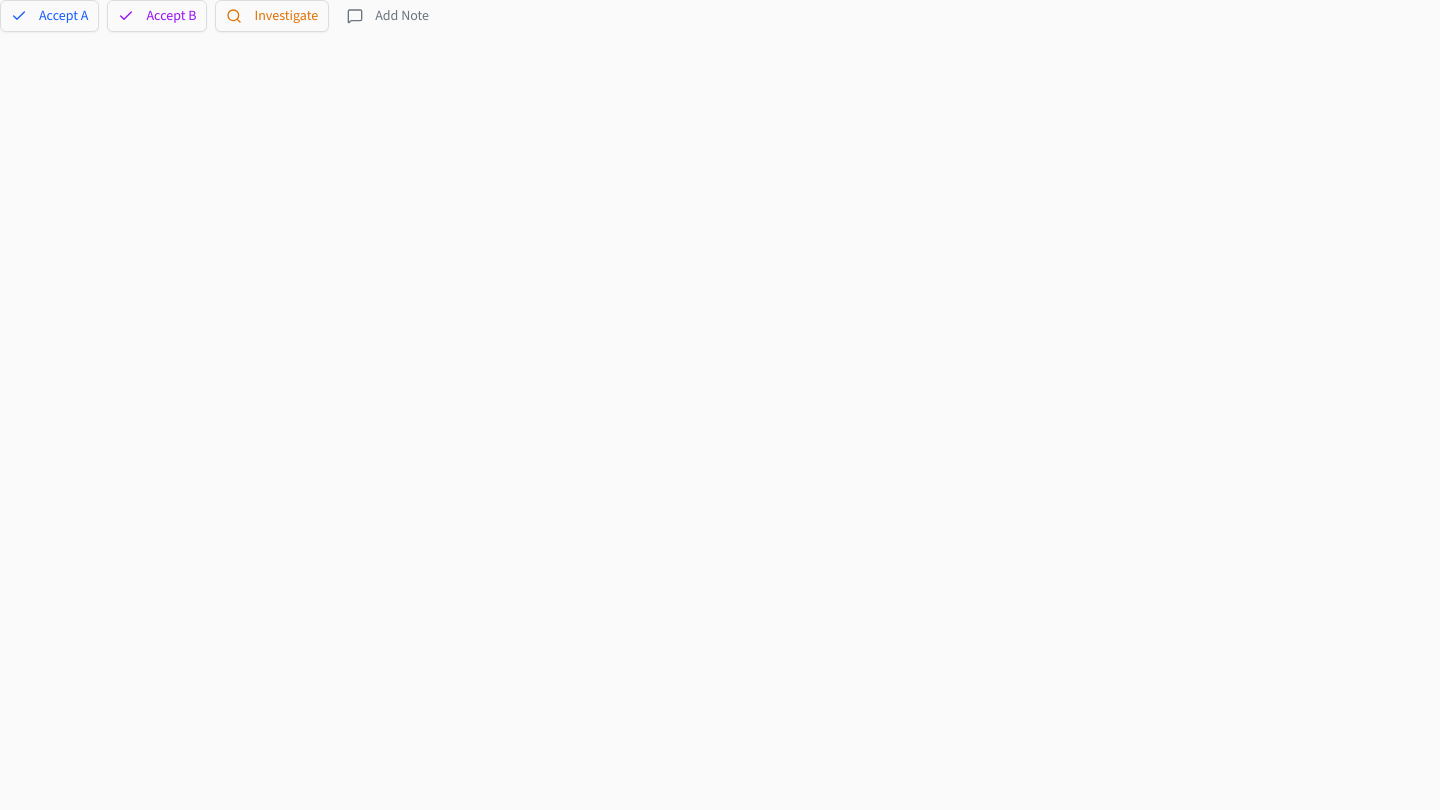
ContradictionActions › Add Note Action (AC7) › opens note dialog when Add Note is clicked
Click the button with aria-label "add a note" at (388, 16), box x1=337 y1=0 x2=439 y2=32
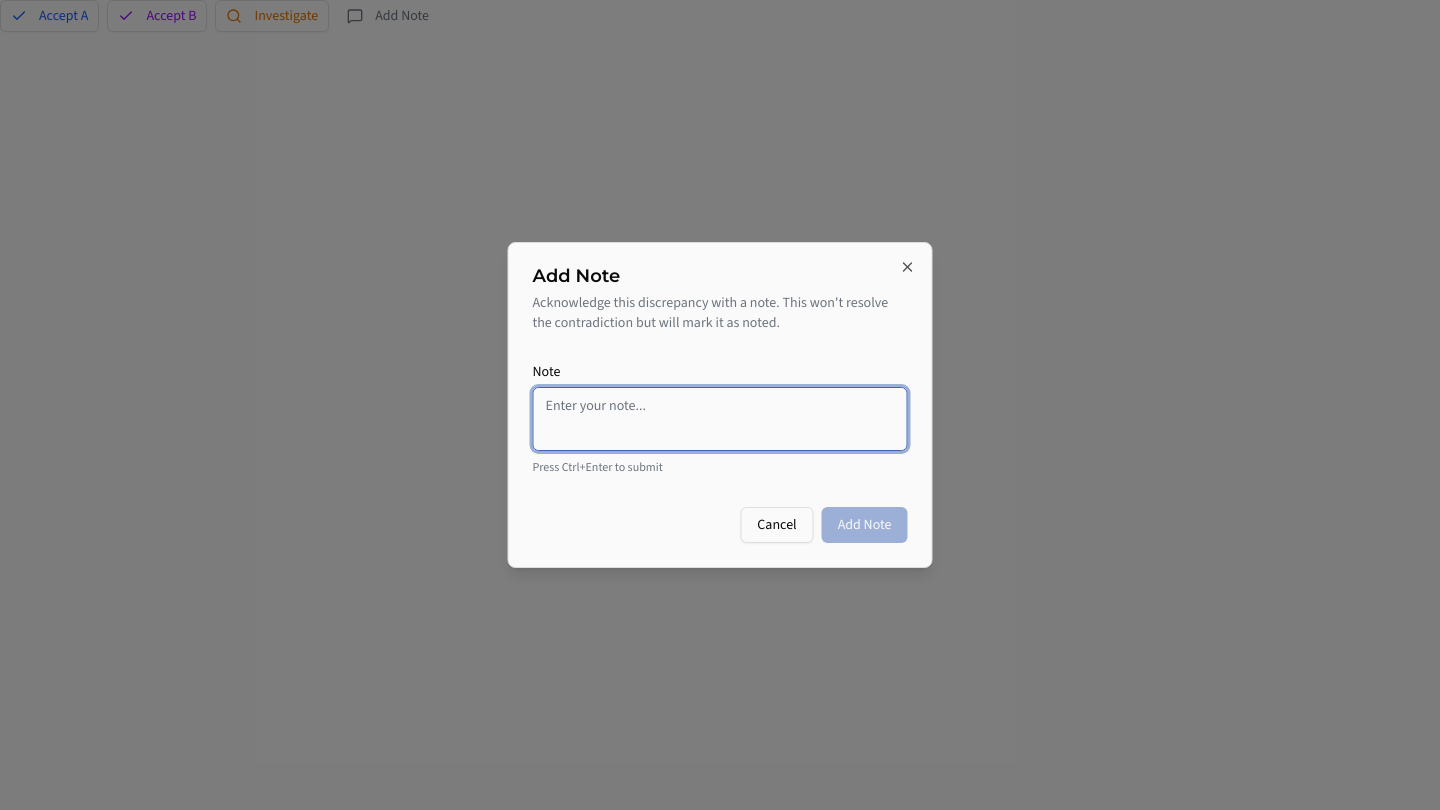
Check: the dialog is shown, box x1=508 y1=242 x2=932 y2=568
Check: the text box labelled "Note" is shown, box x1=532 y1=387 x2=908 y2=451
